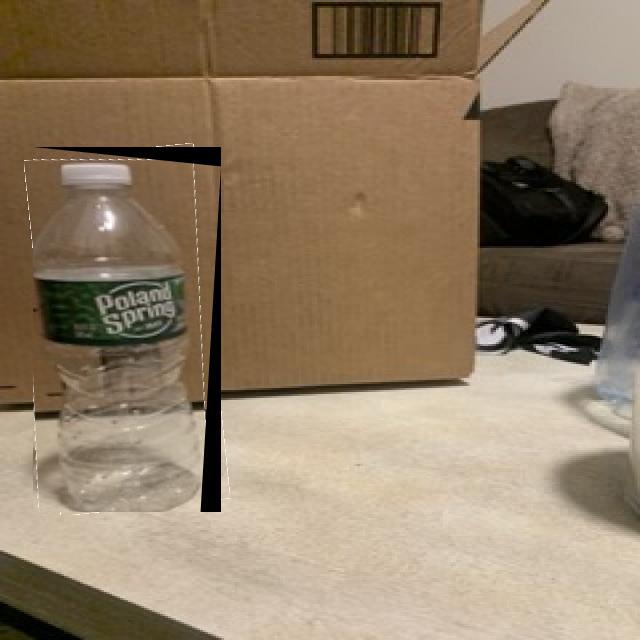water_bottle: (33, 147, 221, 512)
